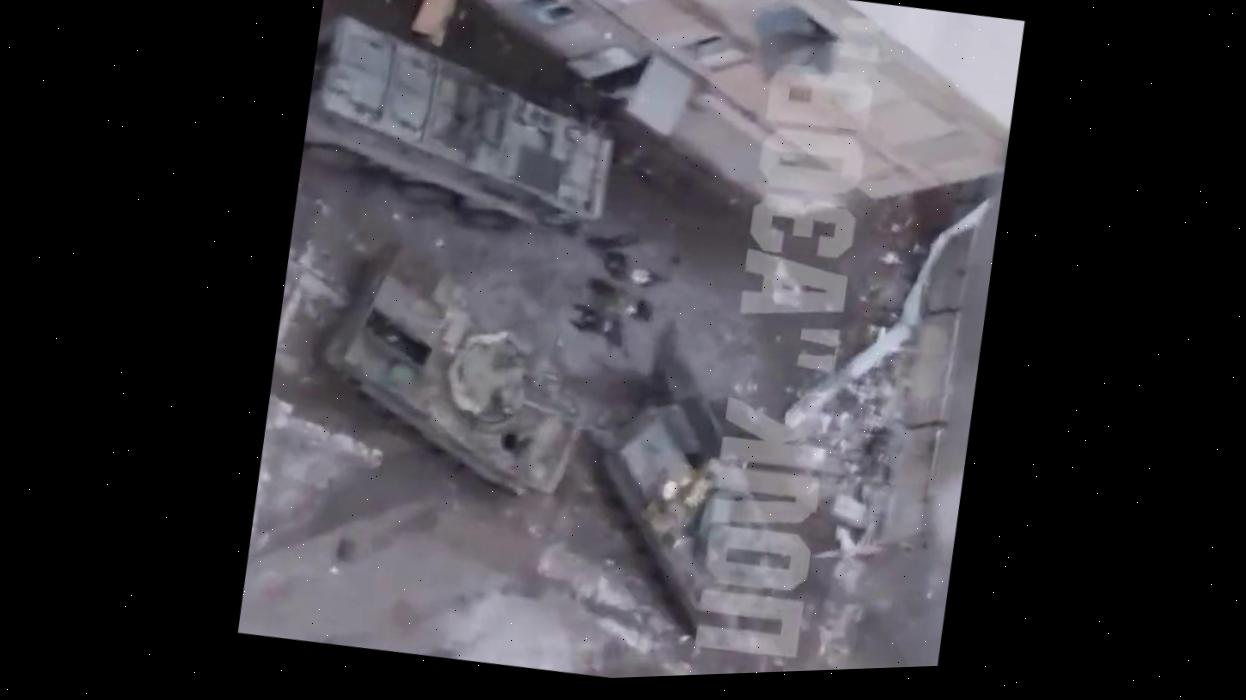person: (573, 275, 660, 331), (578, 208, 655, 262), (585, 249, 677, 291), (565, 305, 636, 356)
tank: (562, 372, 823, 680), (300, 253, 604, 513)
truck: (290, 3, 629, 258)
